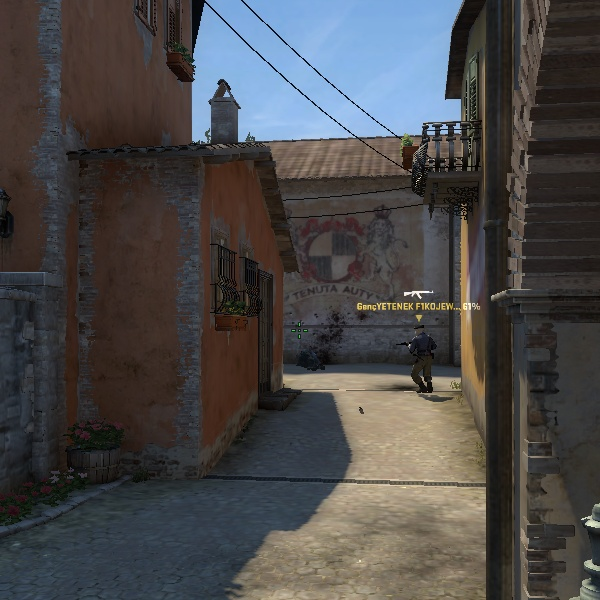t_body: (397, 323, 438, 395)
